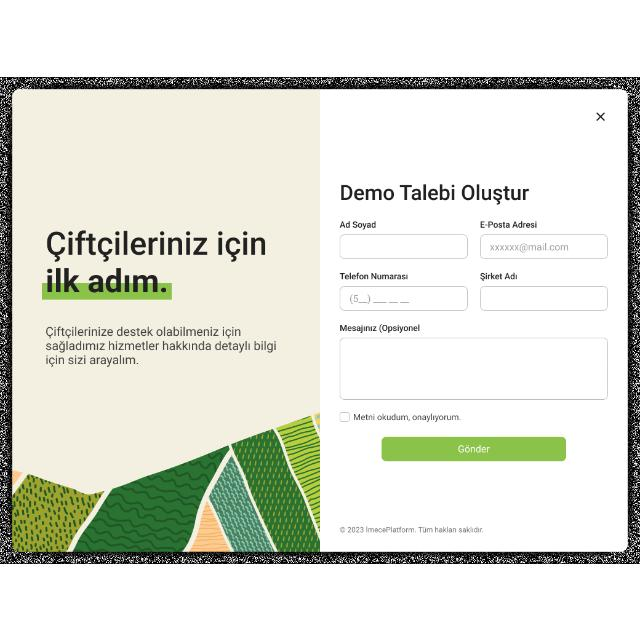QLabel: (339, 183, 531, 203), (338, 524, 487, 534), (353, 412, 461, 422), (336, 322, 424, 332), (336, 271, 412, 279), (478, 219, 538, 227), (456, 443, 492, 453), (478, 271, 520, 279), (337, 220, 378, 228)
VBtn: (380, 433, 568, 462)
VCard: (11, 86, 631, 552)
VCheckbox: (339, 411, 351, 422)
VIcon: (593, 108, 607, 122)
VImg: (14, 88, 318, 550)
VTextField: (339, 286, 467, 310), (480, 286, 608, 310), (339, 234, 467, 258), (480, 234, 608, 258)
VTextarea: (338, 336, 608, 399)
